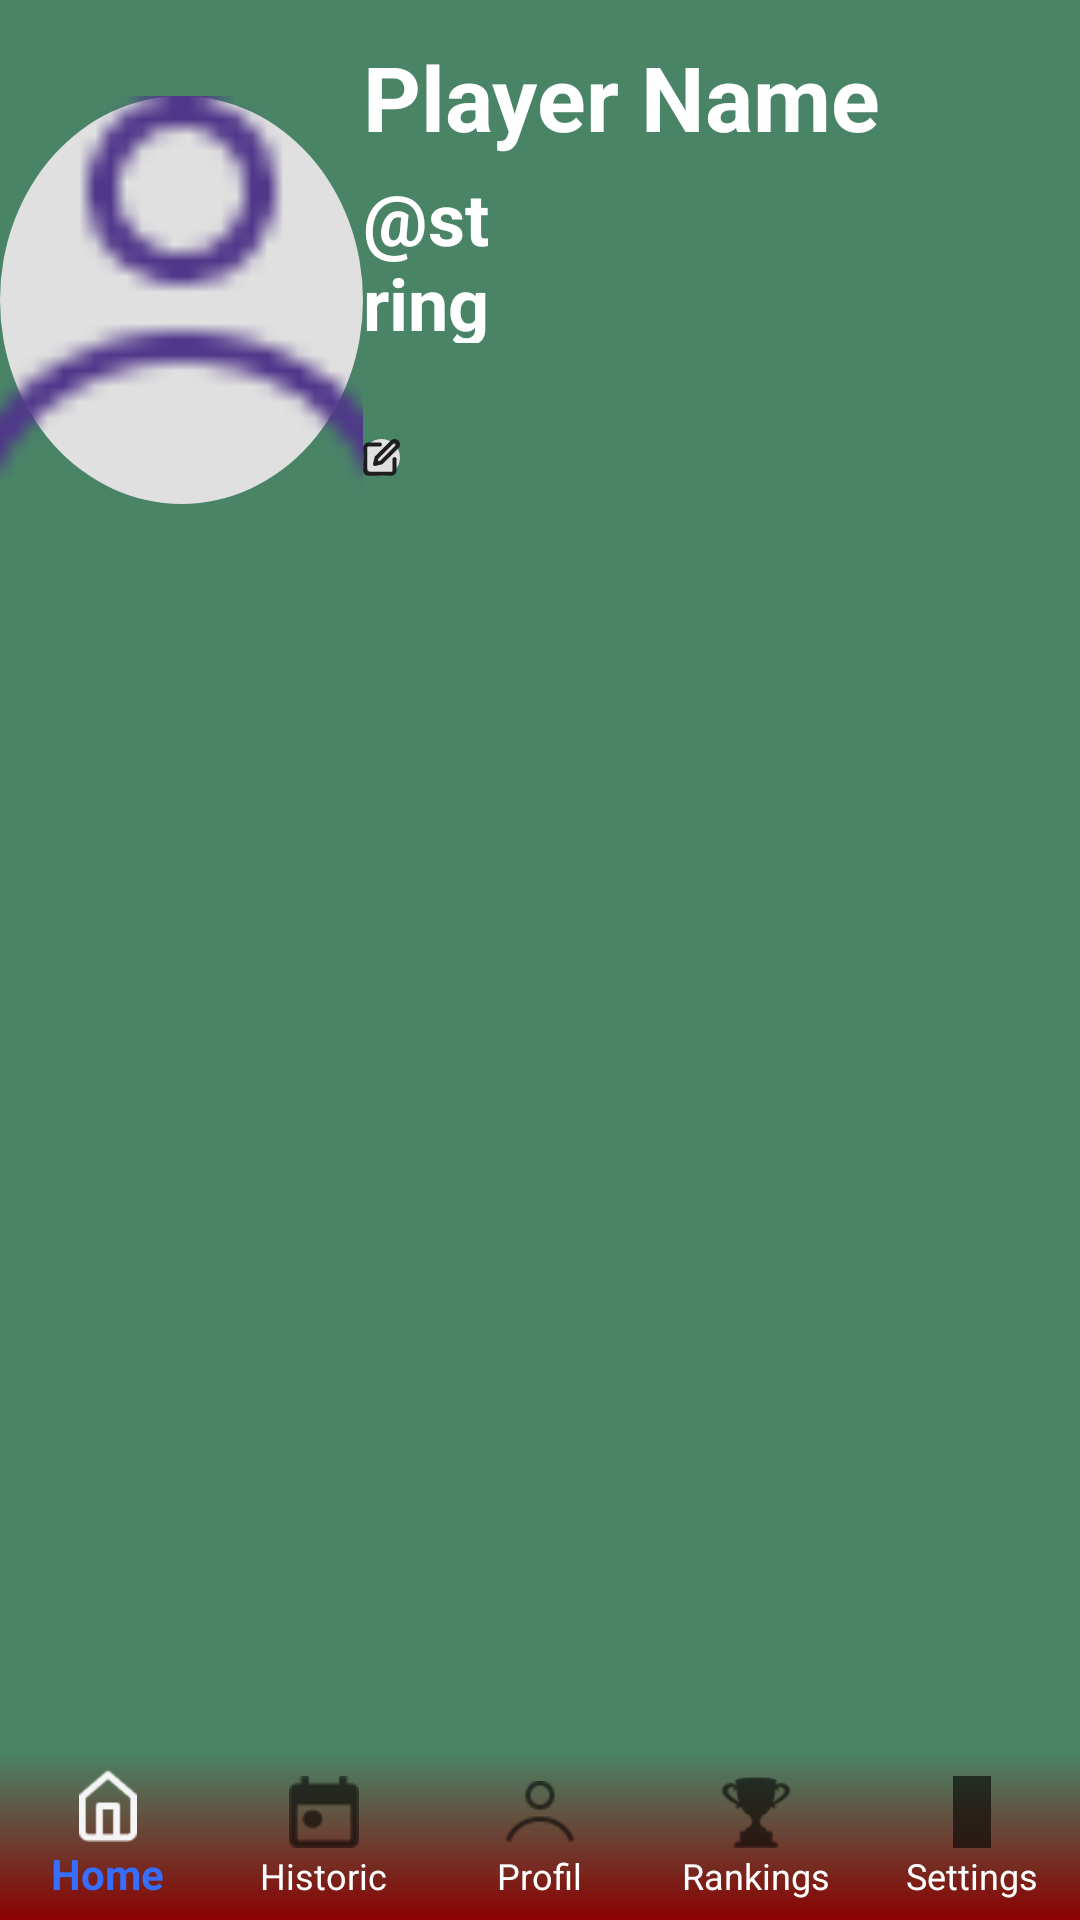

Locate icon controls on the screen. Image size 1080 × 1920, boxes as (x1, y1, x2, y2).
edit: (363, 439, 400, 476)
